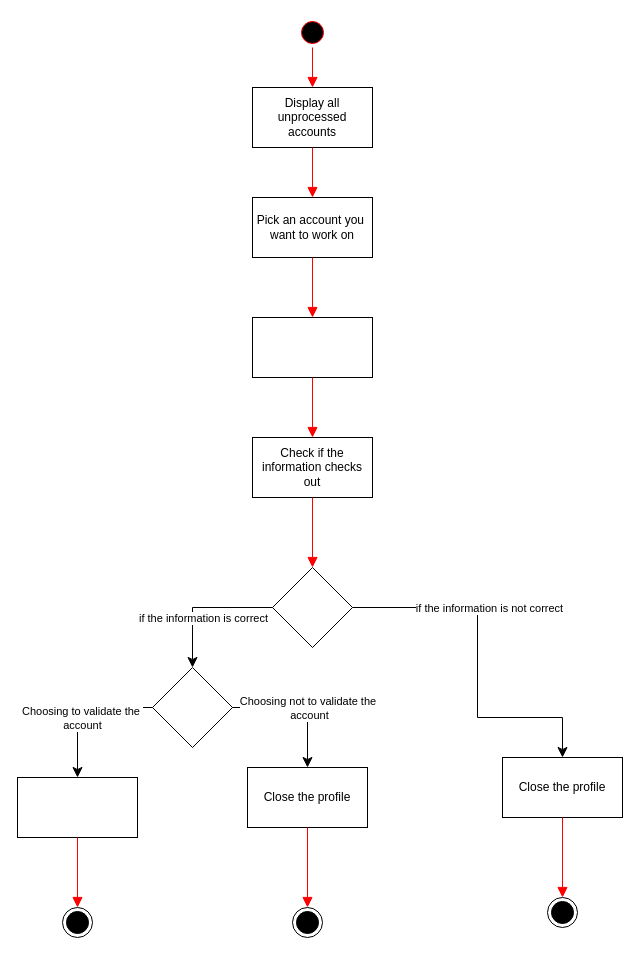
Some shapes in this 640 by 955 pixel diagram are drawn without their labels. Each missing label, with the centre of its shape:
Direct to clicked account page information: pixel 312 347
Validate the account and the chosen profile to be "valid": pixel 77 807
